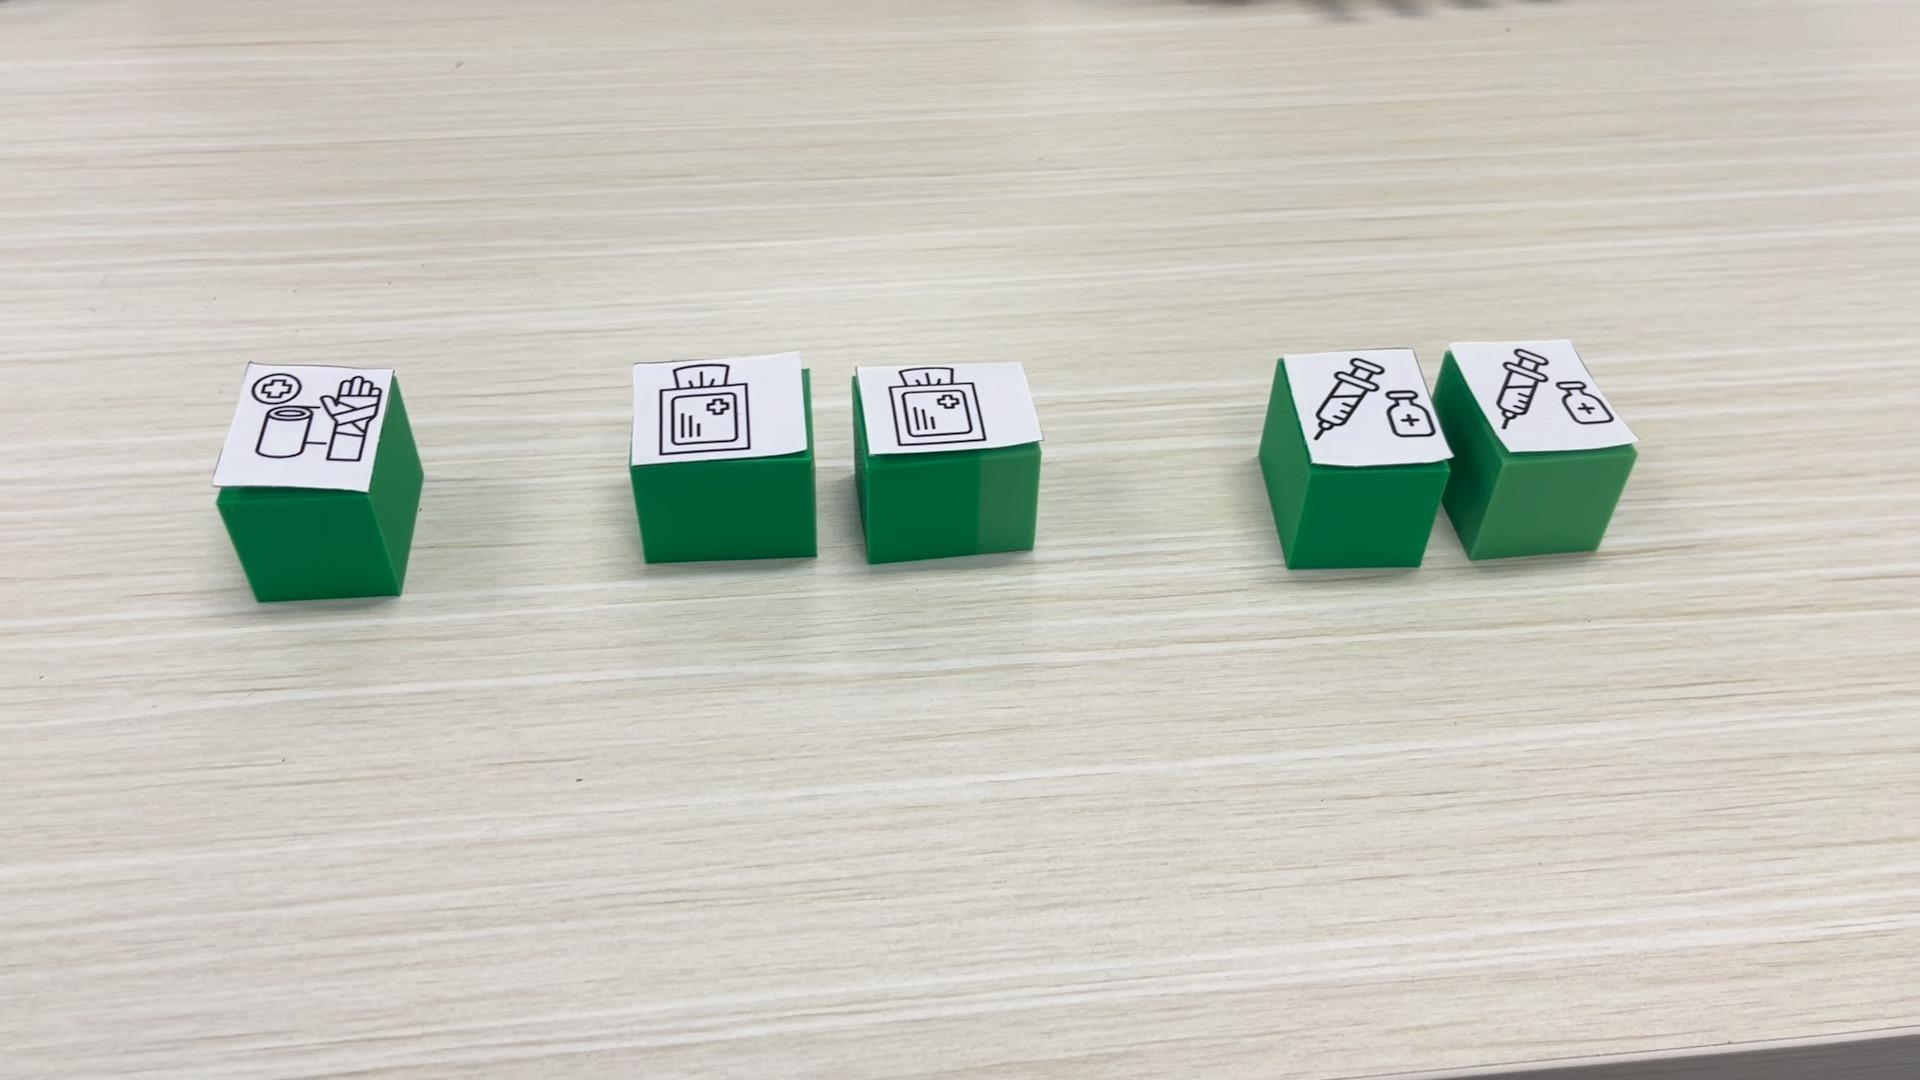Bandages: (214, 363, 421, 604)
Gauze: (626, 349, 816, 564), (852, 356, 1043, 564)
antiseptic cream: (1427, 334, 1640, 563), (1261, 345, 1451, 571)
